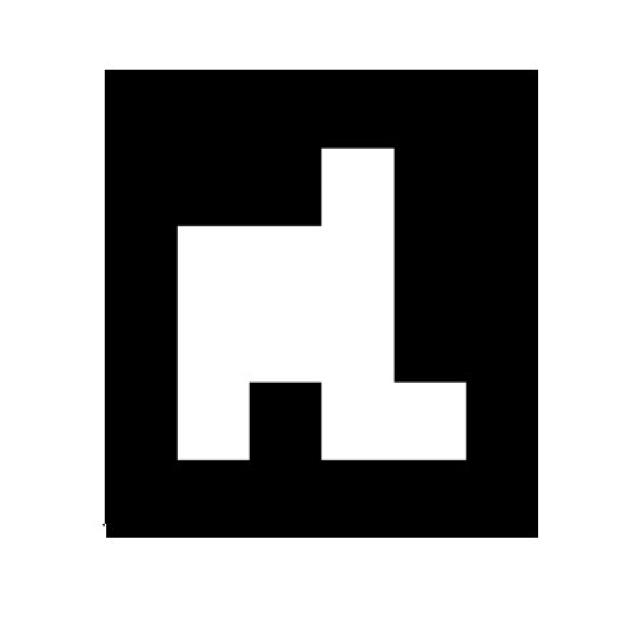aruco: (69, 34, 604, 590)
